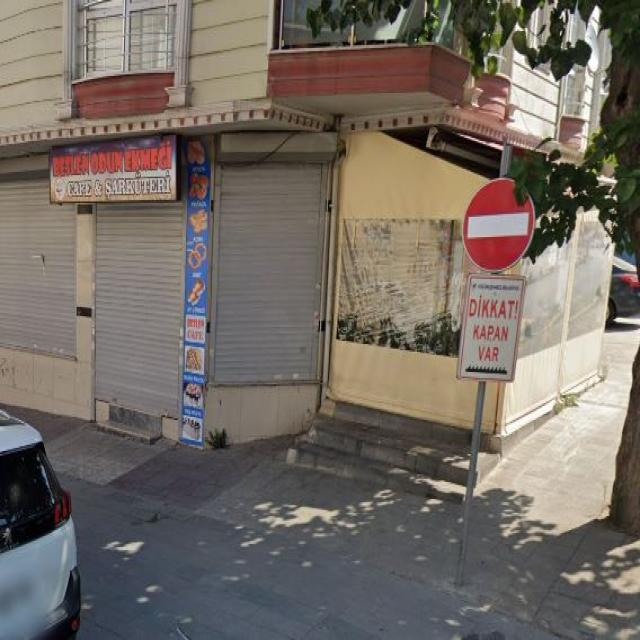girisyok: (462, 177, 535, 271)
